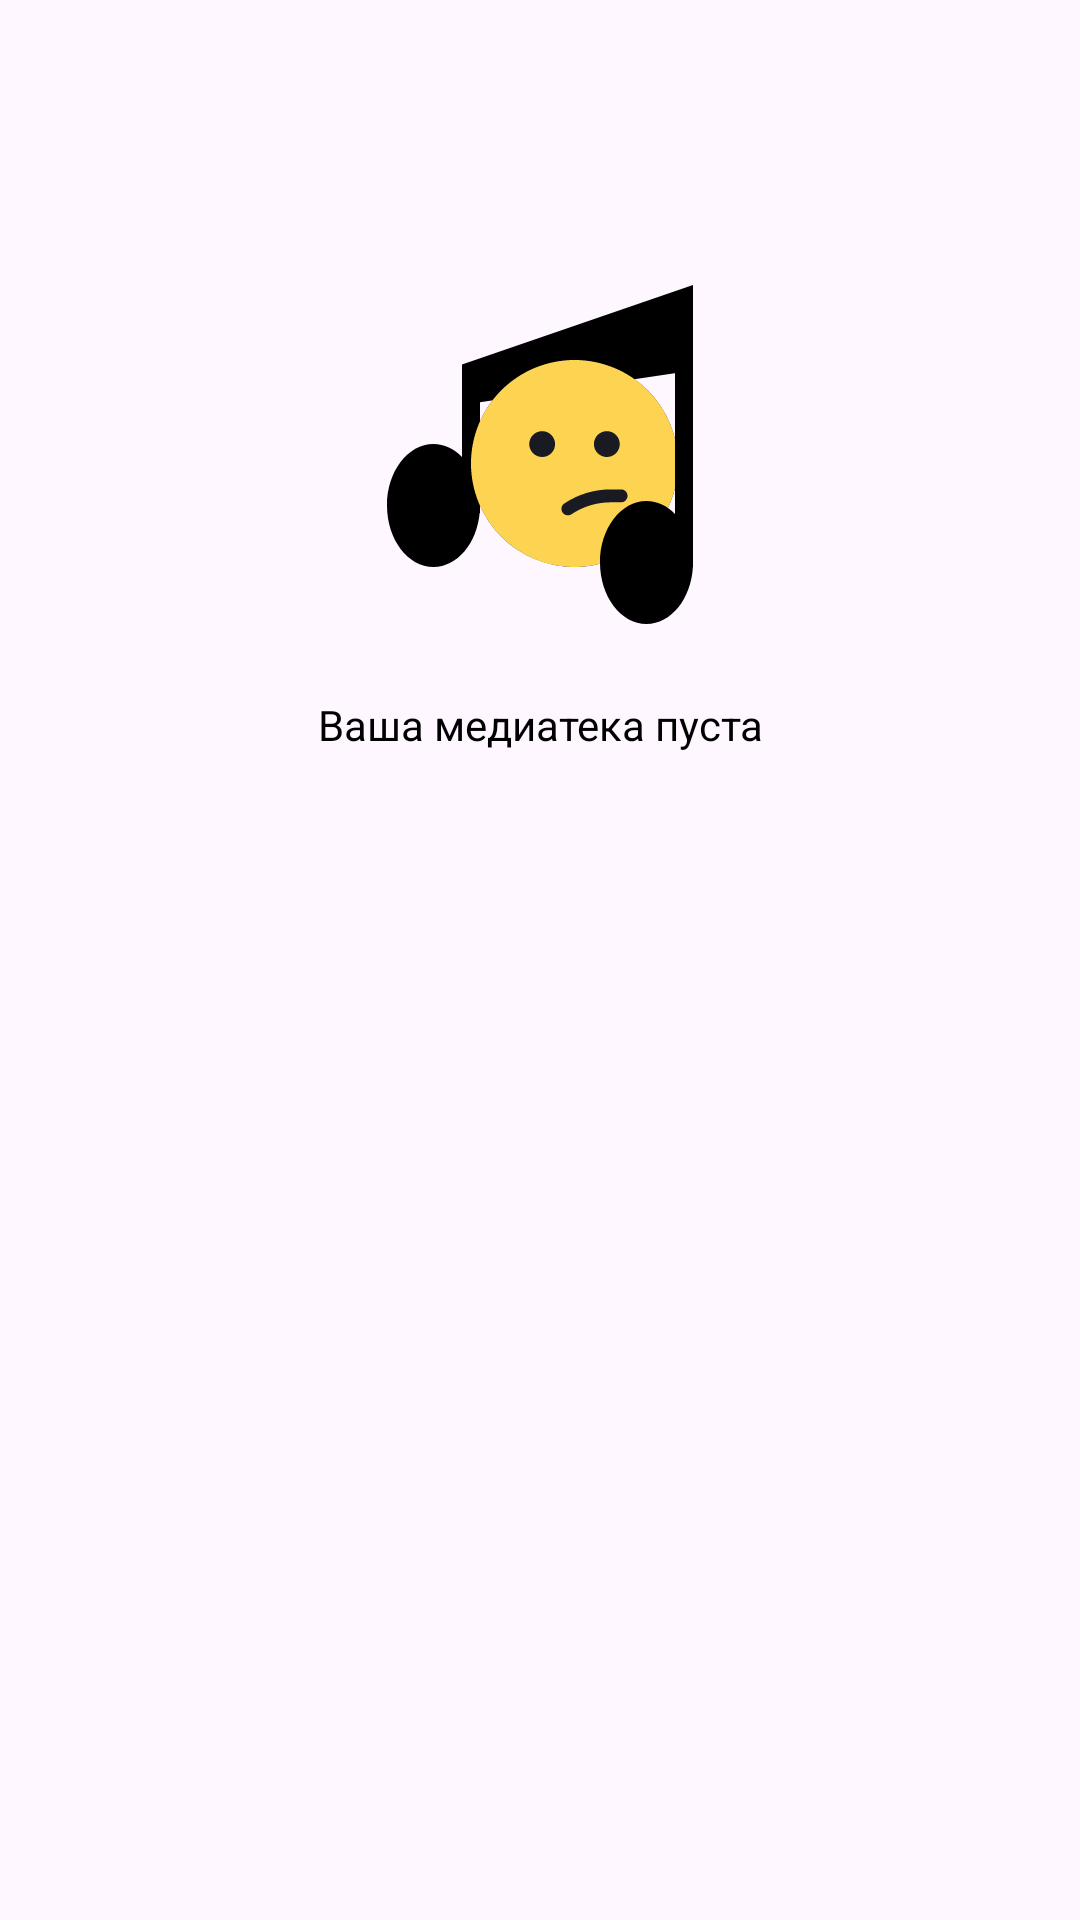

Icons on this 1080×1920 Android screen, each with its box as (x1, y1, x2, y2):
not found: (387, 285, 693, 624)
